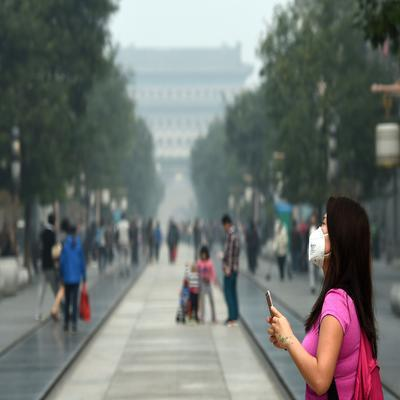Face_Mask_Found: (304, 226, 333, 279)
